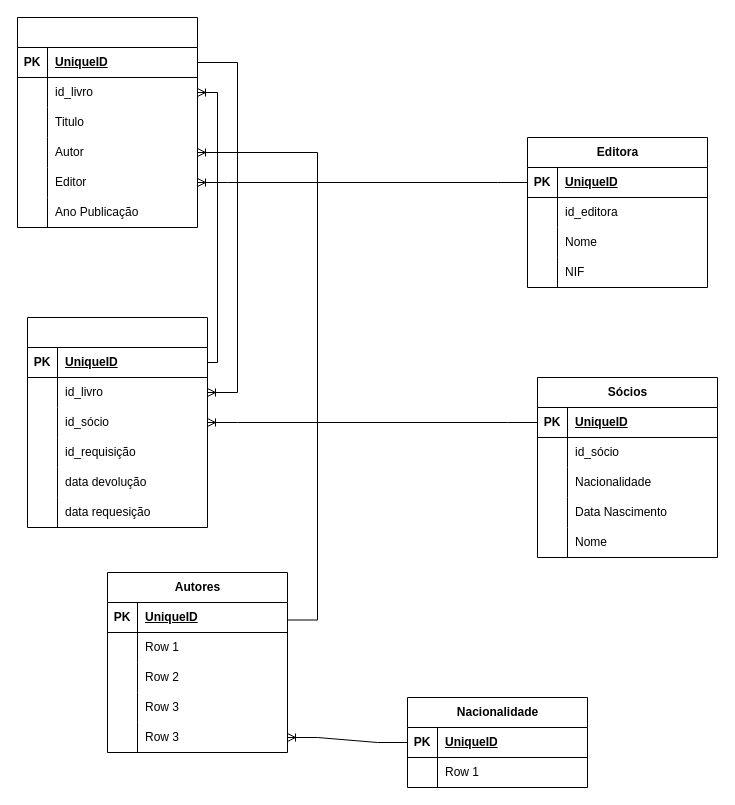
The diagram is 735 pixels wide and 805 high, and some of its shapes have lost their labels. Here are the shapes that lost their labels. From the top down, the box of each, then its label:
(16, 16, 198, 228): Livros
(26, 316, 208, 528): Requisições
